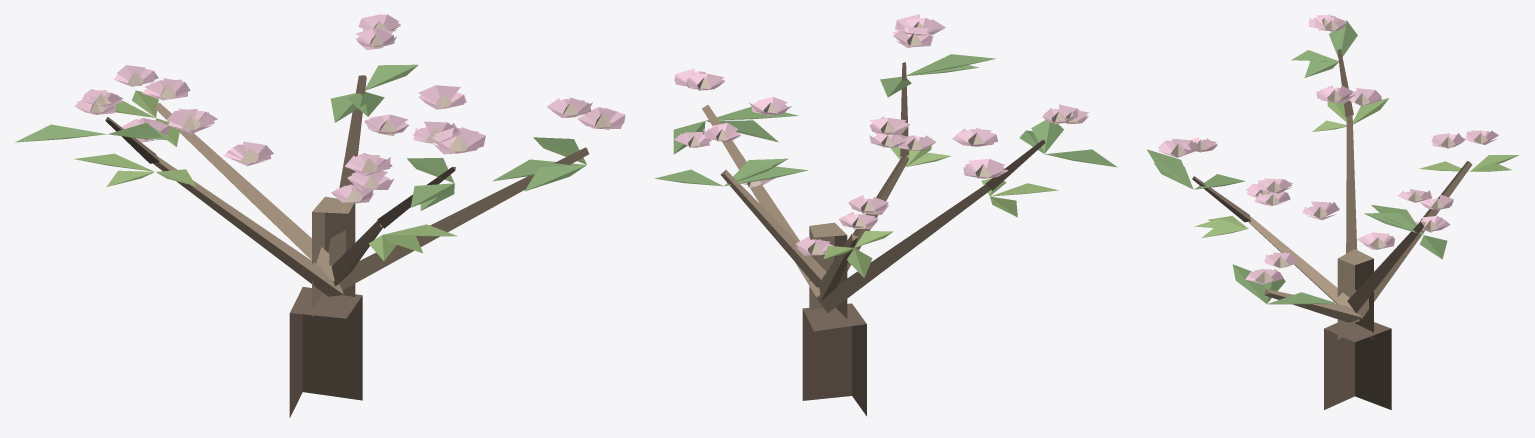
File: hua.mei@flowering__spring.glb
3 views of the same model, side by side, from view 1: azimuth 30°, elevation 25°; view 2: azimuth 150°, elevation 25°; view 3: azimuth 270°, elevation 25° (orthographic). The views are drawn at different scales.
Parts seen in each view (by area): view 1: hua.mei@flowering__spring; view 2: hua.mei@flowering__spring; view 3: hua.mei@flowering__spring.
Part boxes in pixels (x1,y1,x2,y2): hua.mei@flowering__spring: [15, 14, 625, 417]; hua.mei@flowering__spring: [654, 14, 1117, 416]; hua.mei@flowering__spring: [1147, 14, 1519, 409].
Size of the model in its own units: 3.66 by 2.42 by 2.74.
